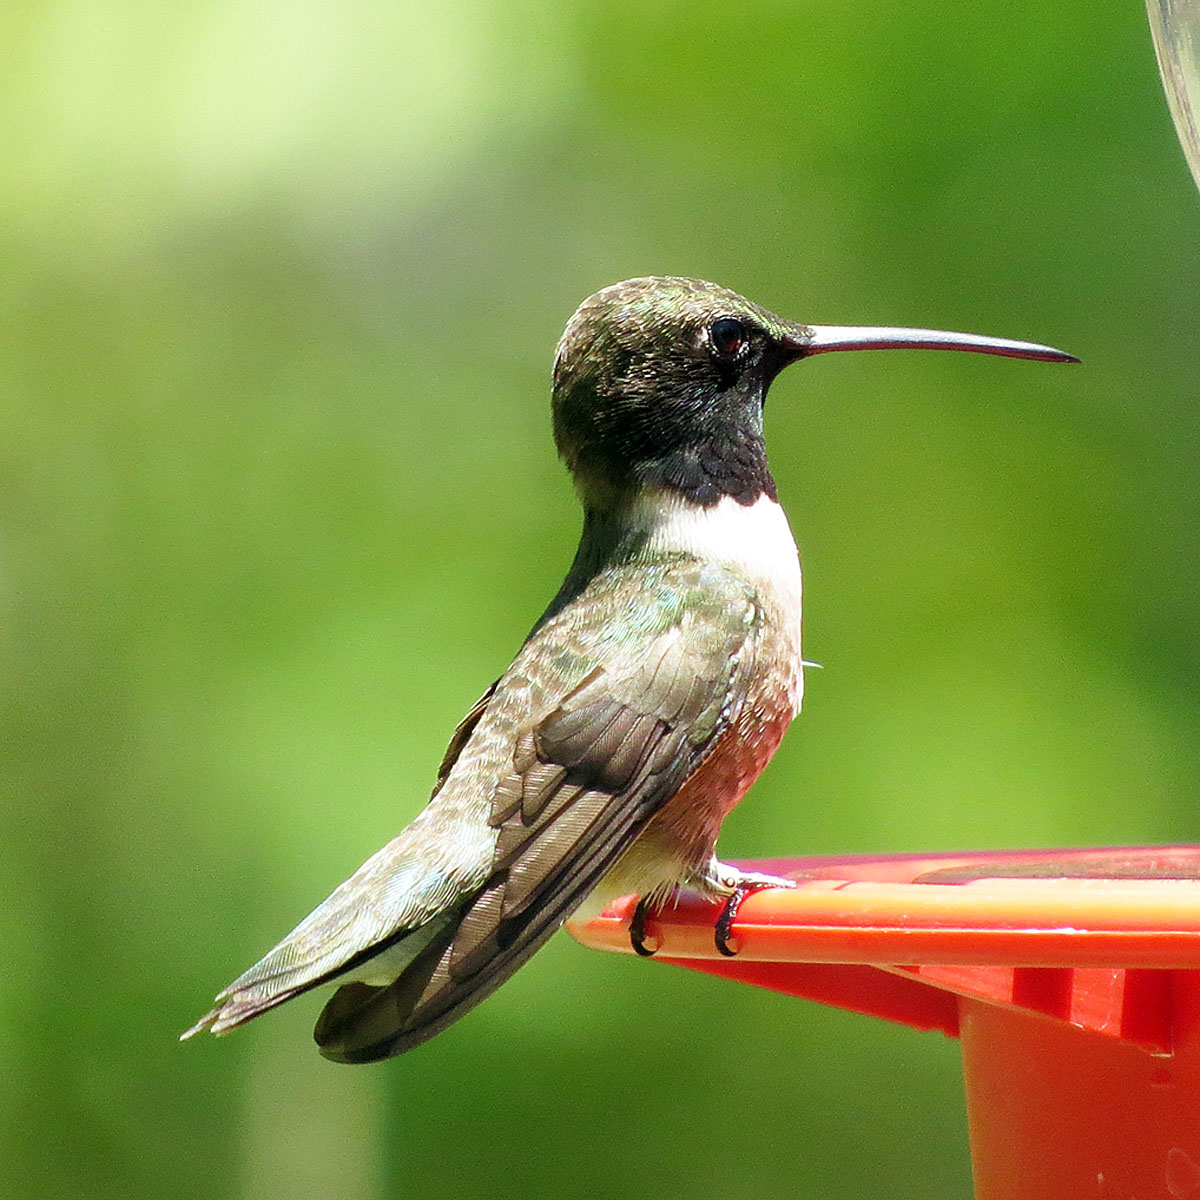archilochus alexandri: (185, 276, 1080, 1074)
